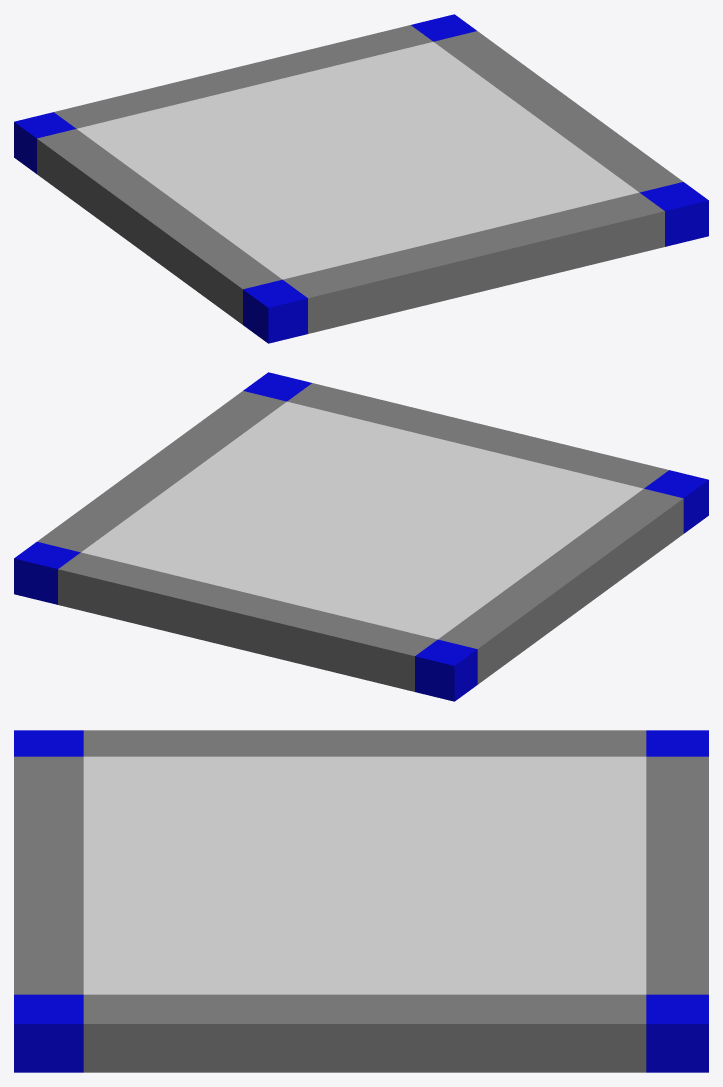
File: FloorBreakPanel.fbx
3 renders of one model, top to bottom at view 1: azimuth 30°, elevation 25°; view 2: azimuth 150°, elevation 25°; view 3: azimuth 270°, elevation 25°, orthographic. The views are drawn at different scales.
Parts seen in each view (by area): view 1: Break_plate; view 2: Break_plate; view 3: Break_plate.
Boxes of the visible parts, bbox=[...] form: Break_plate: bbox=[14, 14, 708, 343]; Break_plate: bbox=[14, 372, 708, 701]; Break_plate: bbox=[14, 730, 708, 1072].
Bounding box in the file's own units: 12.06 × 0.9364 × 12.06.
